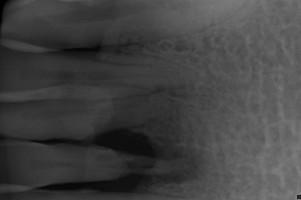Dental Caries: (133, 135, 210, 194)
